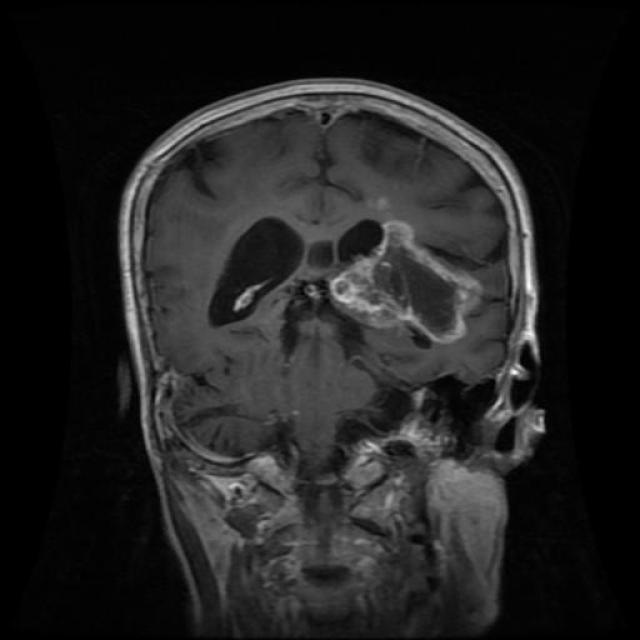glioma: (331, 218, 485, 348)
